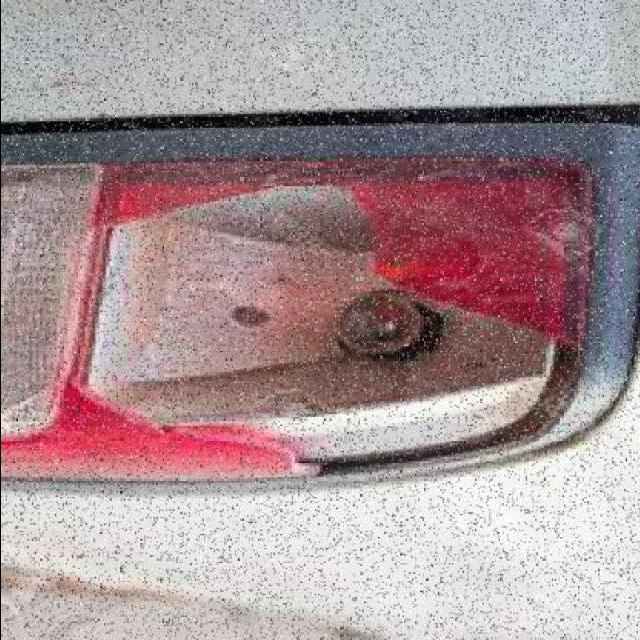Taillight-Damage: (3, 108, 640, 478)
